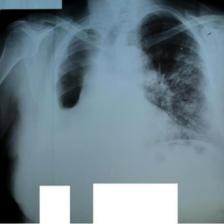tuberculosis: (48, 8, 216, 170)
